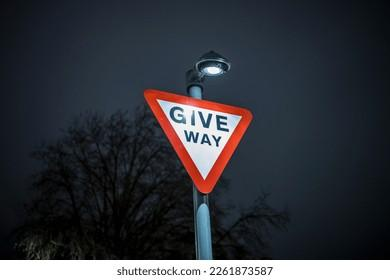Give Way: (143, 78, 255, 194)
